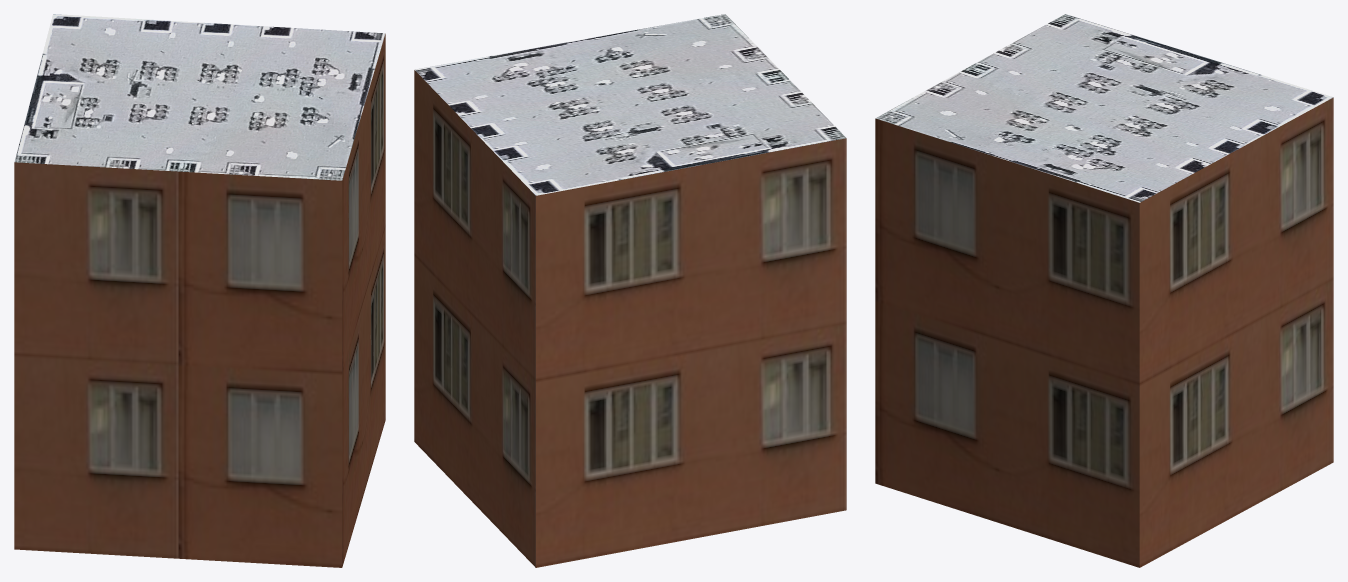
File: ResTex__5228.fbx
3 views of the same model, side by side, from view 1: azimuth 30°, elevation 25°; view 2: azimuth 150°, elevation 25°; view 3: azimuth 270°, elevation 25° (orthographic). The views are drawn at different scales.
Visible parts, largest first — view 1: CityEngineMaterial_20_m, CityEngineMaterial_8_m; view 2: CityEngineMaterial_20_m, CityEngineMaterial_8_m; view 3: CityEngineMaterial_20_m, CityEngineMaterial_8_m.
Boxes of the visible parts, x1,y1,x2,y2 form: CityEngineMaterial_20_m: (14, 34, 385, 567); CityEngineMaterial_8_m: (14, 14, 385, 180); CityEngineMaterial_20_m: (414, 70, 846, 567); CityEngineMaterial_8_m: (414, 14, 846, 195); CityEngineMaterial_20_m: (875, 97, 1333, 567); CityEngineMaterial_8_m: (875, 14, 1333, 202).
Size of the model in its own units: 6.66 by 6 by 6.83.
2 materials, 2 textured.
